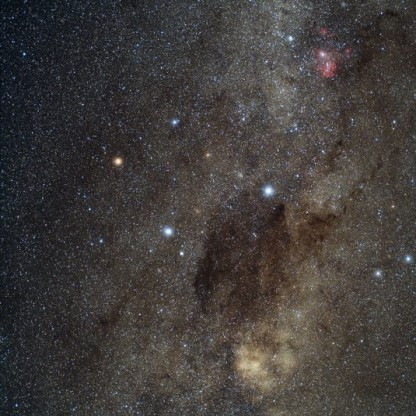Southern Cross: (107, 149, 135, 180), (159, 114, 183, 141), (155, 220, 176, 250), (256, 177, 278, 205)
